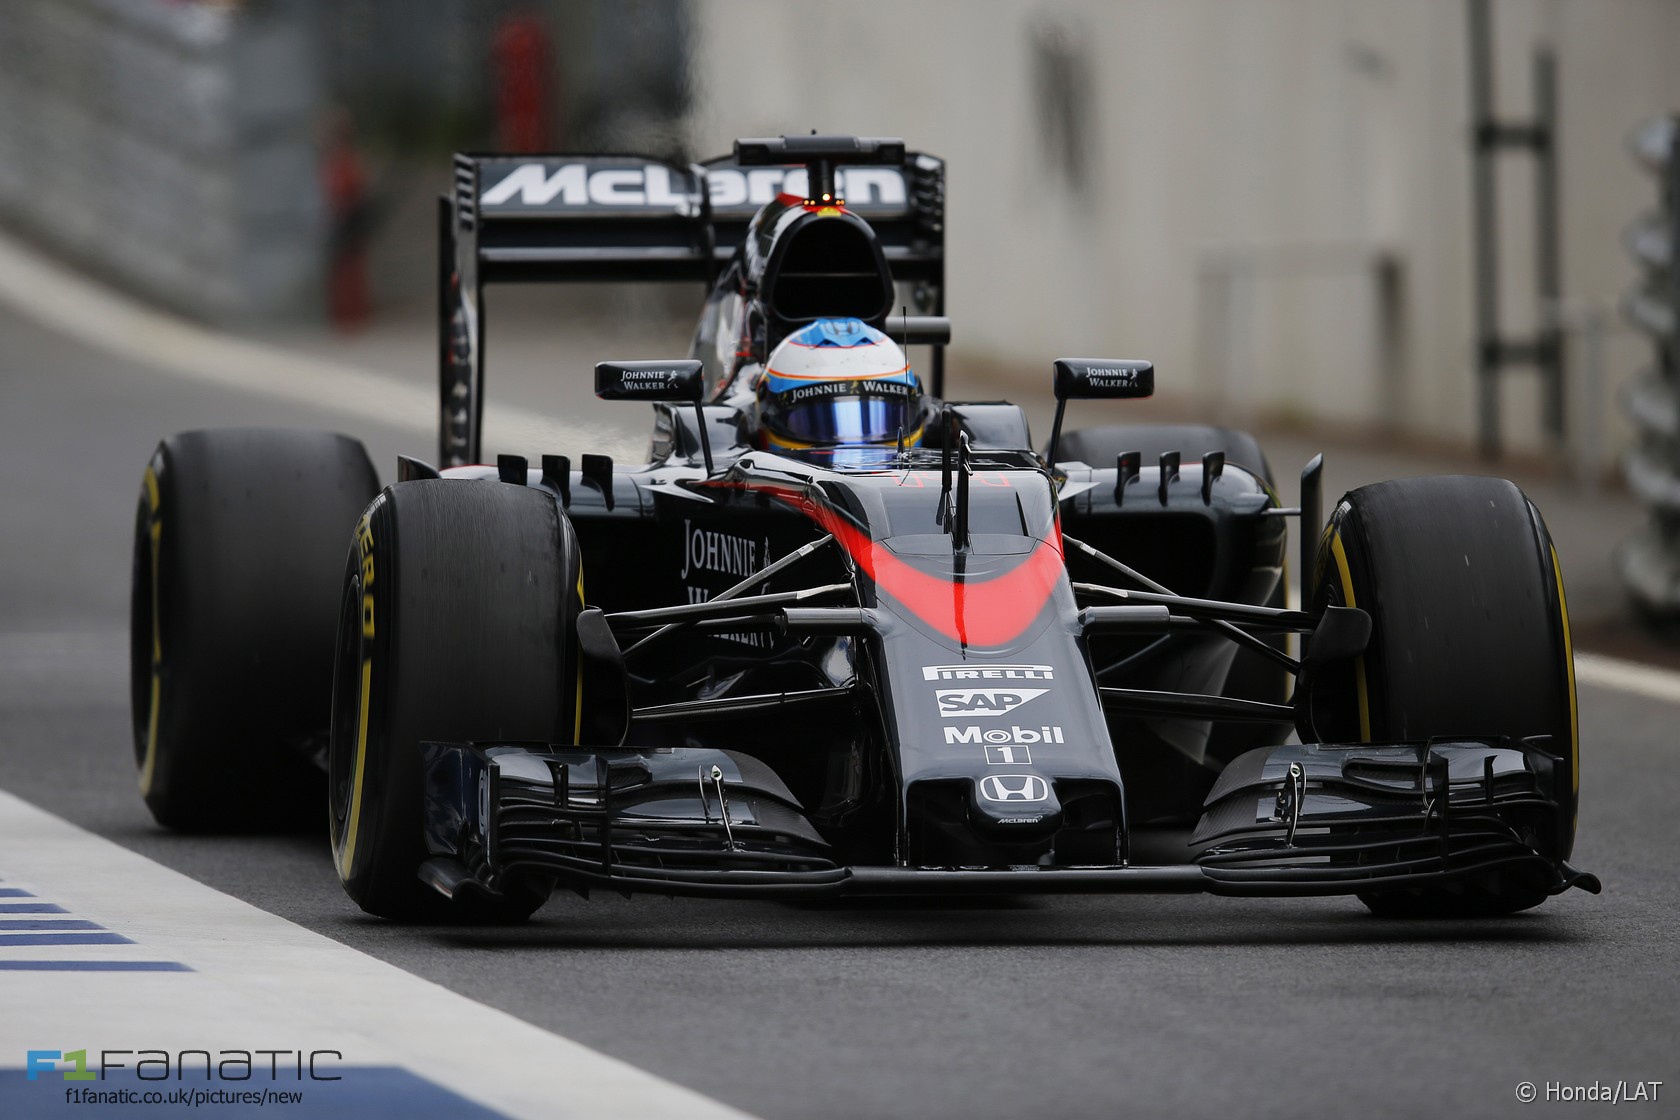F1 Car: (137, 120, 1609, 946)
